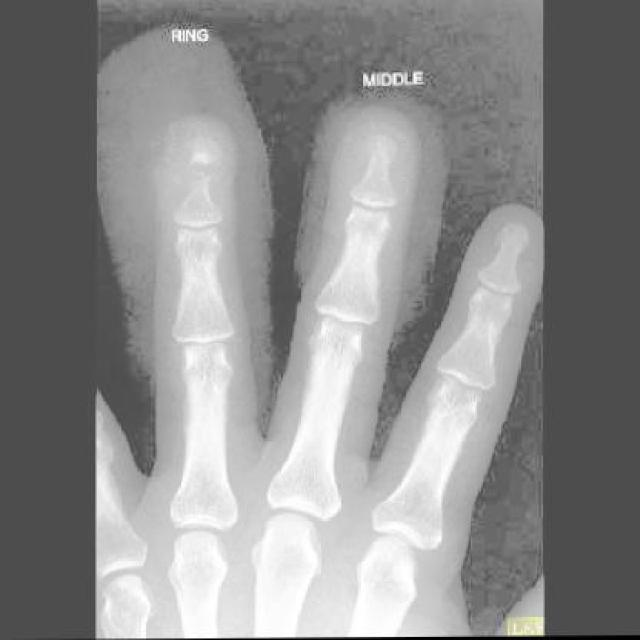Fracture: (166, 136, 220, 210)
